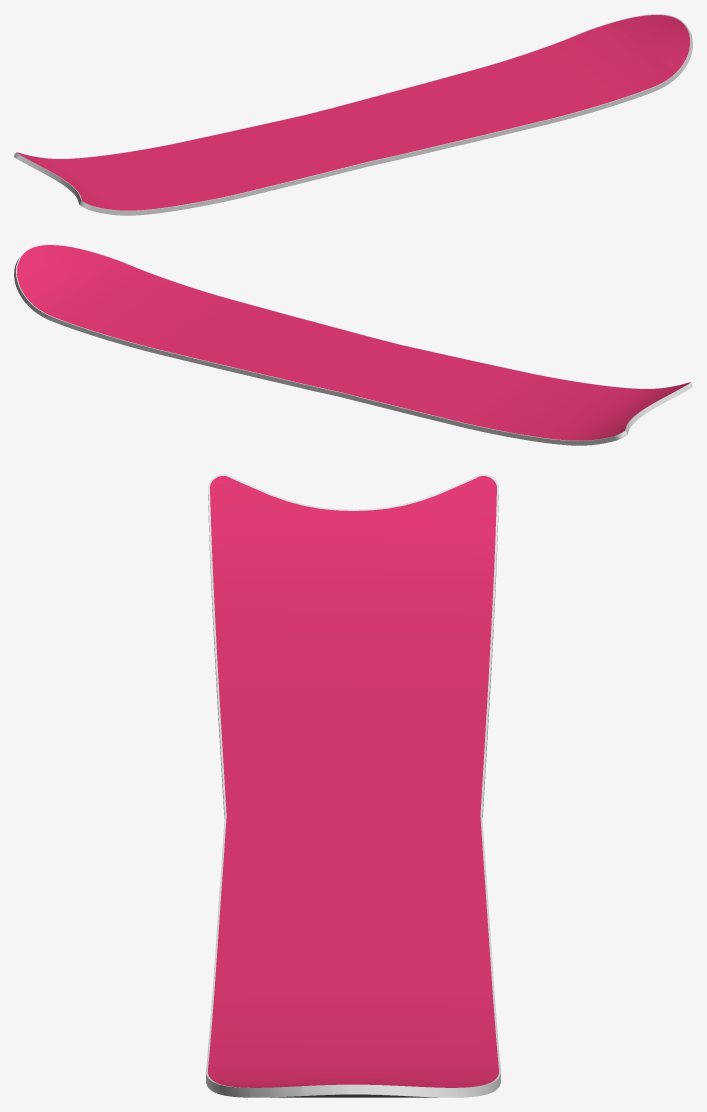
File: board_directional_rocker.gltf
3 renders of one model, top to bottom at view 1: azimuth 30°, elevation 25°; view 2: azimuth 150°, elevation 25°; view 3: azimuth 270°, elevation 25°, orthographic. The views are drawn at different scales.
Parts seen in each view (by area): view 1: board-top, board-edge; view 2: board-top, board-edge; view 3: board-top, board-edge.
Boxes of the visible parts, x1=… form: board-top: x1=17, y1=15, x2=689, y2=210; board-edge: x1=14, y1=14, x2=692, y2=215; board-top: x1=17, y1=245, x2=689, y2=440; board-edge: x1=14, y1=244, x2=692, y2=445; board-top: x1=208, y1=476, x2=498, y2=1087; board-edge: x1=206, y1=474, x2=500, y2=1097.
Bounding box in the file's own units: 1.5 × 0.0871 × 0.3009.
